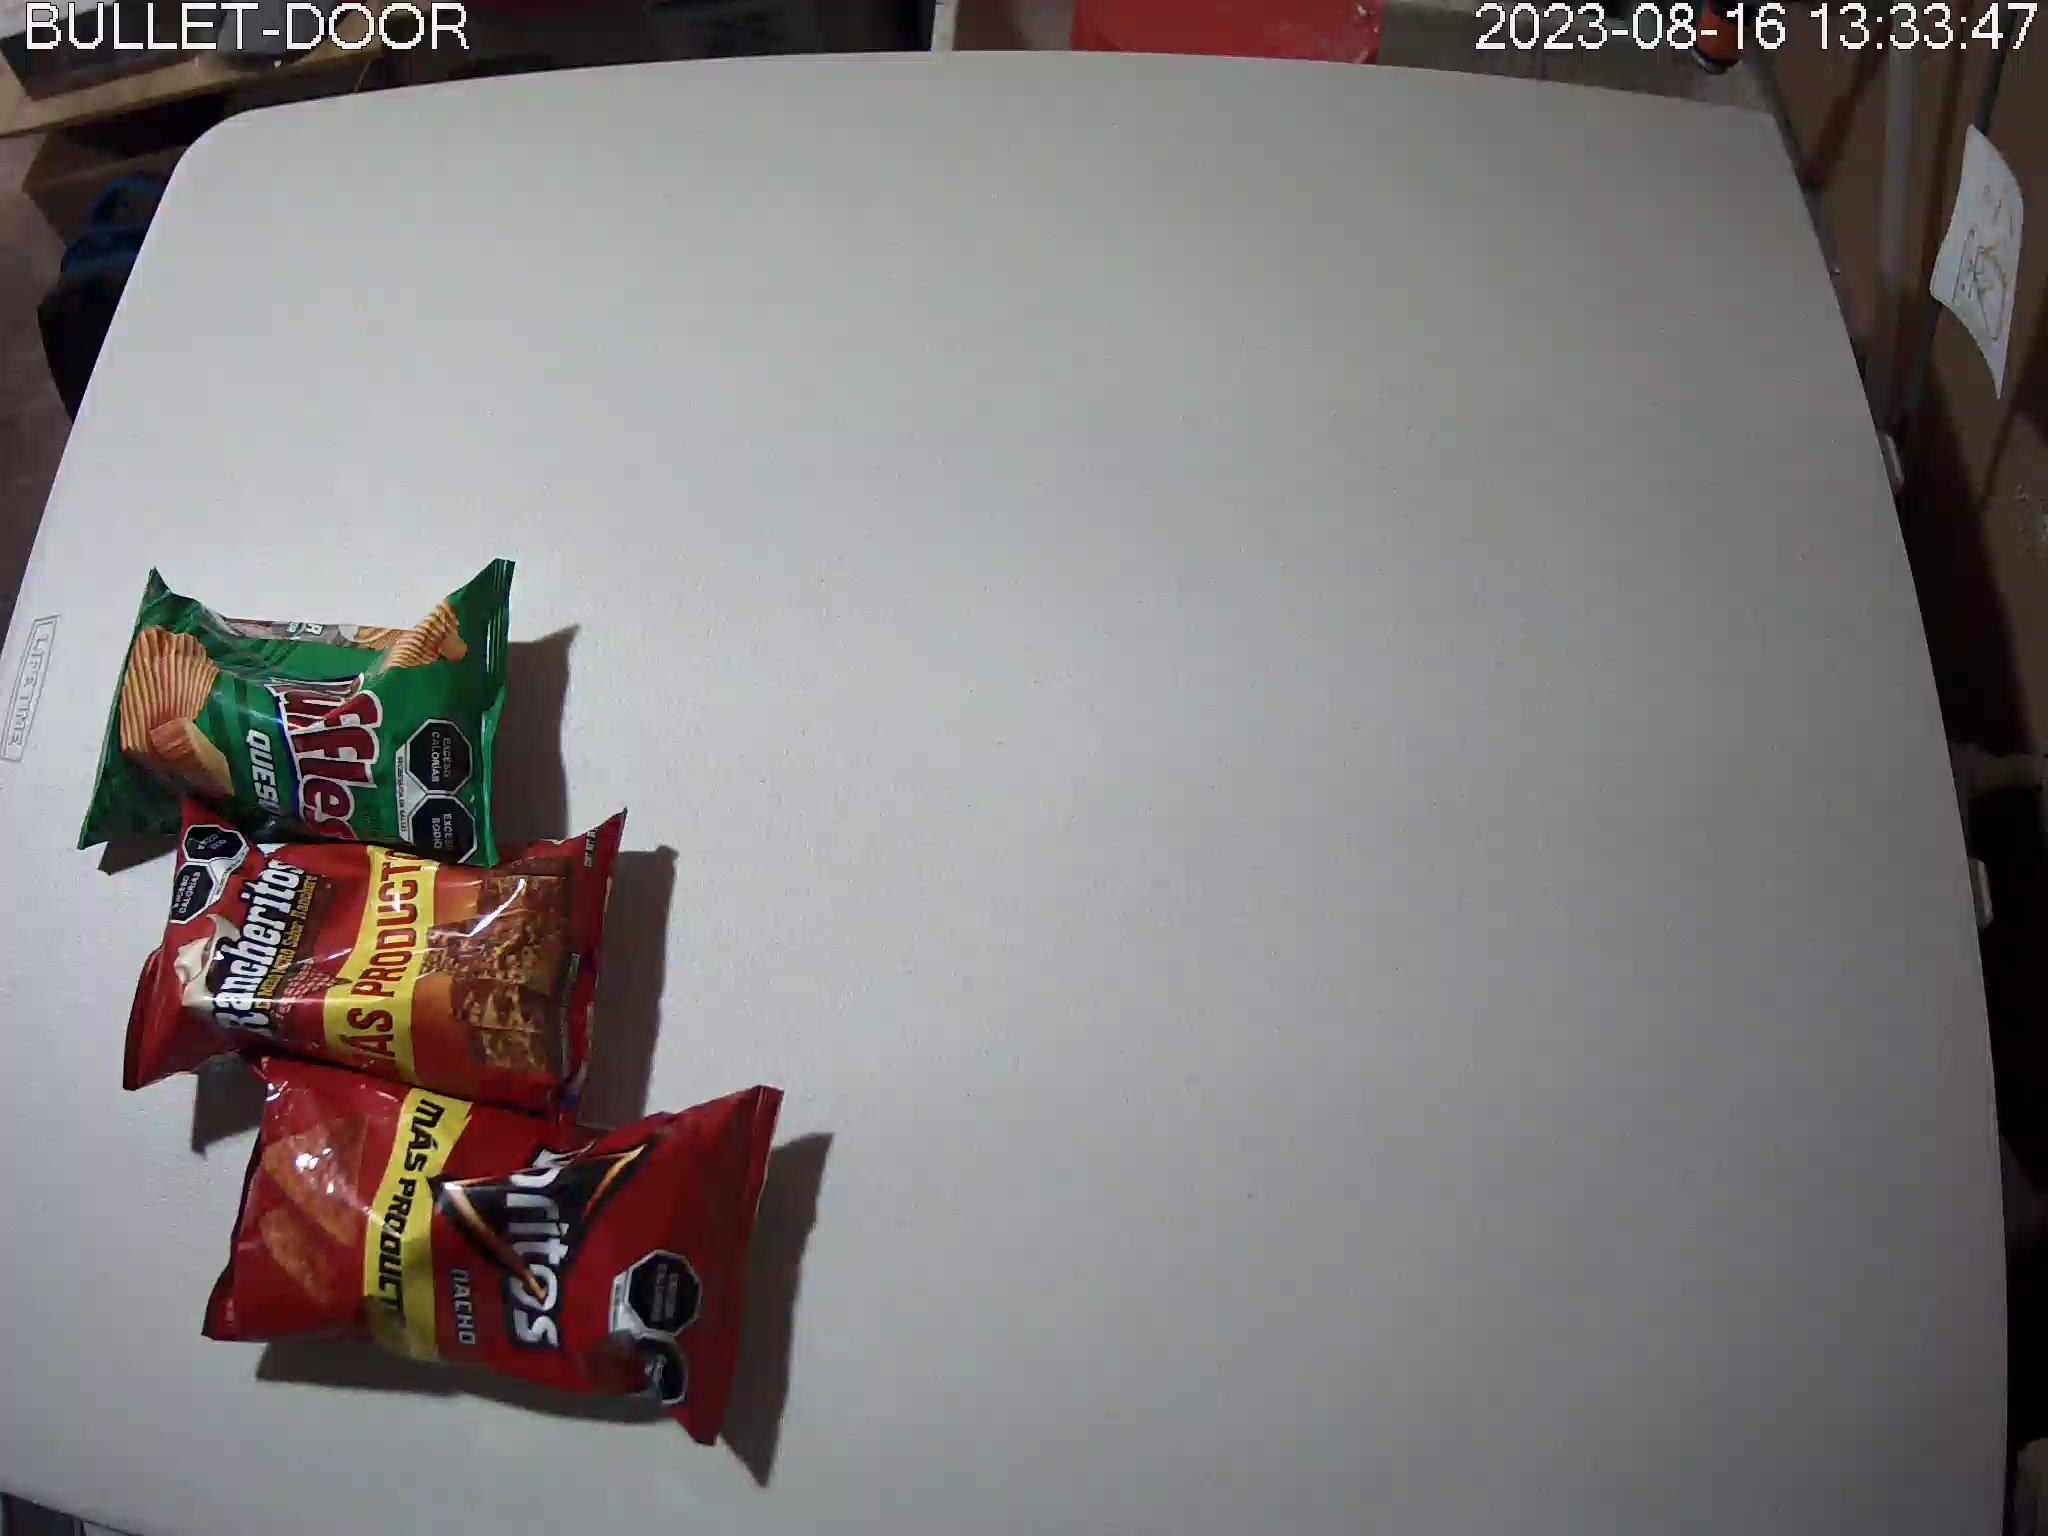DoritosN_61_F: (202, 1042, 790, 1449)
Rancheritos_58_F: (123, 791, 631, 1155)
RufflesQ_48_F: (76, 558, 516, 866)
